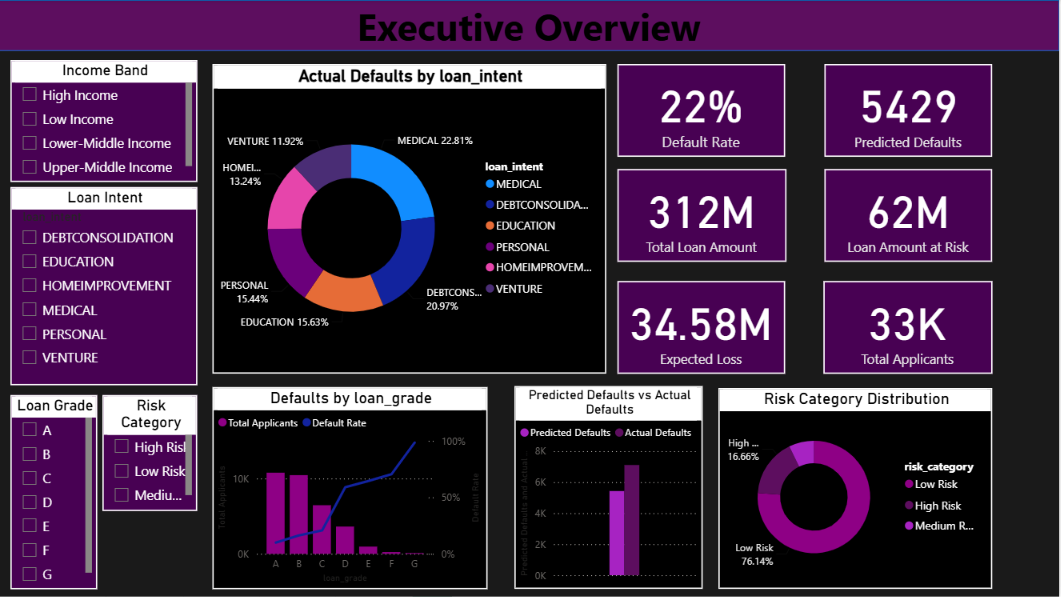

The dashboard page shown, as its layout file describes it:
{"tool":"powerbi","page":{"name":"Page 2","canvas":[1280,720],"ordinal":0},"visuals":[{"type":"card","fields":{"Values":["credit_risk_dashboard.Total Applicants"]},"box":[995.3,339,203.9,112.2],"z":0},{"type":"card","fields":{"Values":["credit_risk_dashboard.Total Loan Amount"]},"box":[746.8,203.9,203.9,112.2],"z":1000},{"type":"card","fields":{"Values":["credit_risk_dashboard.Predicted Defaults"]},"box":[996.5,77.2,202.7,112.2],"z":2000},{"type":"card","fields":{"Values":["credit_risk_dashboard.Default Rate"]},"box":[746.8,77.2,202.7,112.2],"z":3000},{"type":"card","fields":{"Values":["credit_risk_dashboard.Expected Loss"]},"box":[746.8,339,202.7,112.2],"z":4000},{"type":"card","fields":{"Values":["credit_risk_dashboard.Loan Amount at Risk"]},"box":[996.5,203.9,202.7,112.2],"z":5000},{"type":"donutChart","title":"Actual Defaults by loan_intent","fields":{"Category":["credit_risk_dashboard.loan_intent"],"Y":["credit_risk_dashboard.Total Defaults"]},"box":[258.2,77.2,475.3,374],"z":6000},{"type":"lineClusteredColumnComboChart","title":"Defaults by loan_grade","fields":{"Category":["credit_risk_dashboard.loan_grade"],"Y":["credit_risk_dashboard.Total Applicants"],"Y2":["credit_risk_dashboard.Default Rate"]},"box":[258.2,466.9,331.8,243.7],"z":7000},{"type":"donutChart","title":"Risk Category Distribution","fields":{"Category":["credit_risk_dashboard.risk_category"],"Y":["credit_risk_dashboard.Total Applicants"]},"box":[868.6,468.1,330.6,242.5],"z":8000},{"type":"clusteredColumnChart","title":"Predicted Defaults vs Actual Defaults","fields":{"Y":["credit_risk_dashboard.Predicted Defaults","credit_risk_dashboard.Actual Defaults"]},"box":[622.5,465.7,226.8,244.9],"z":9000},{"type":"slicer","title":"Loan Intent","fields":{"Values":["credit_risk_dashboard.loan_intent"]},"box":[14.5,225.6,225.6,238.9],"z":10000},{"type":"slicer","title":"Loan Grade","fields":{"Values":["credit_risk_dashboard.loan_grade"]},"box":[14.5,476.5,105,234],"z":11000},{"type":"slicer","title":"Income Band","fields":{"Values":["credit_risk_dashboard.income_band"]},"box":[14.5,72.4,225.6,147.2],"z":12000},{"type":"slicer","title":"Risk Category","fields":{"Values":["credit_risk_dashboard.risk_category"]},"box":[125.5,476.5,114.6,139.9],"z":13000},{"type":"shape","box":[0,0,1280,61.5],"z":14000}]}

Visuals, with their boxes in screenshot pixels (x1, y1, x2, y2), scaled from the page's 1280x720 canvas onto the 1061x597 screenshot:
card - credit_risk_dashboard.Total Applicants: box(825, 281, 994, 374)
card - credit_risk_dashboard.Total Loan Amount: box(619, 169, 788, 262)
card - credit_risk_dashboard.Predicted Defaults: box(826, 64, 994, 157)
card - credit_risk_dashboard.Default Rate: box(619, 64, 787, 157)
card - credit_risk_dashboard.Expected Loss: box(619, 281, 787, 374)
card - credit_risk_dashboard.Loan Amount at Risk: box(826, 169, 994, 262)
"Actual Defaults by loan_intent" donutChart: box(214, 64, 608, 374)
"Defaults by loan_grade" lineClusteredColumnComboChart: box(214, 387, 489, 589)
"Risk Category Distribution" donutChart: box(720, 388, 994, 589)
"Predicted Defaults vs Actual Defaults" clusteredColumnChart: box(516, 386, 704, 589)
"Loan Intent" slicer: box(12, 187, 199, 385)
"Loan Grade" slicer: box(12, 395, 99, 589)
"Income Band" slicer: box(12, 60, 199, 182)
"Risk Category" slicer: box(104, 395, 199, 511)
shape: box(0, 0, 1060, 51)
